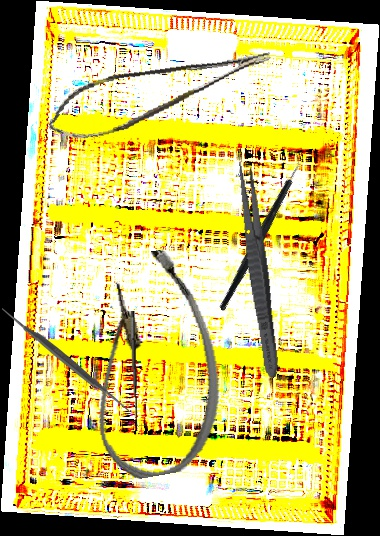Cannula: (69, 243, 235, 485)
Chopper: (174, 147, 345, 313)
Dressing Forceps: (231, 159, 285, 379)
Hook Surgical: (128, 310, 148, 427)
Micro Scissor: (40, 44, 280, 148)
Spatula Surgical: (1, 297, 130, 423)
